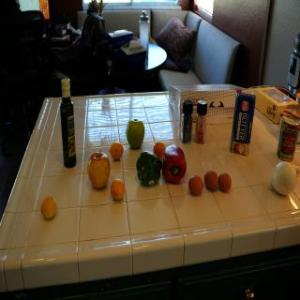bell_pepper: (160, 144, 190, 186), (134, 152, 162, 186)
egg: (188, 174, 204, 196), (204, 169, 219, 191), (218, 172, 232, 194)
onion: (268, 158, 298, 198)
